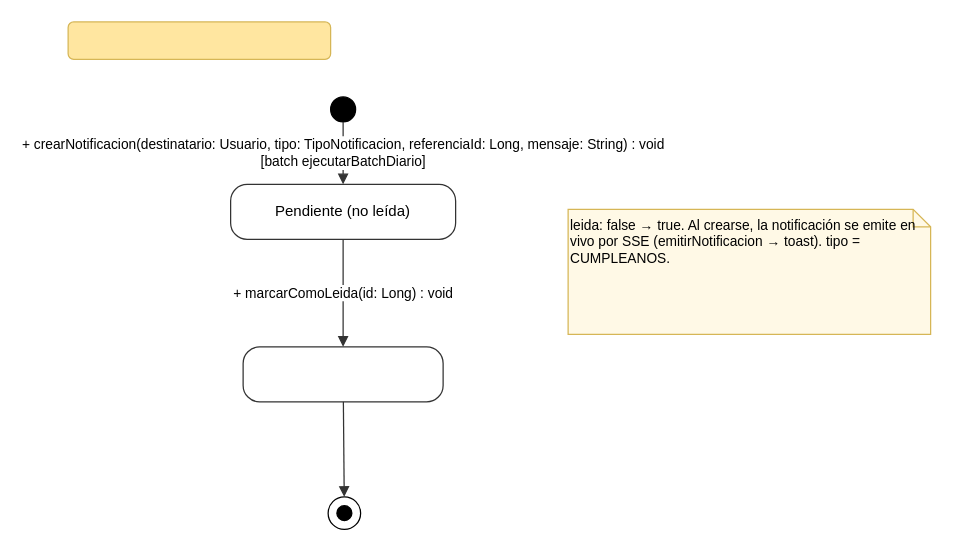
This 953x551 diagram has some shape labels left out. Each missing label, with the centre of its shape:
"Leída" goes at point (342, 374).
"Notificacion (cumpleaños)" goes at point (199, 40).
